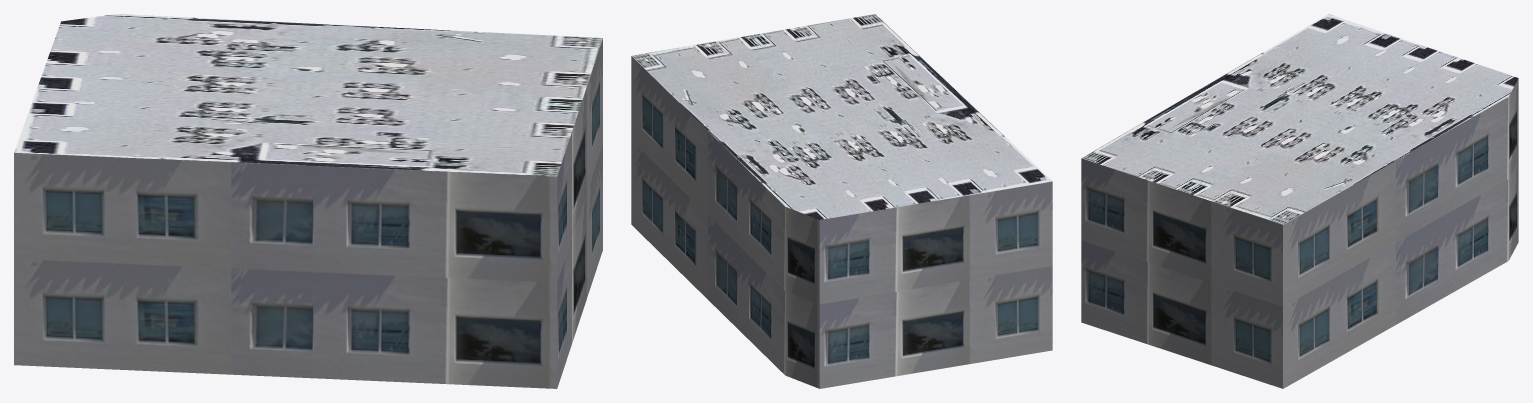
Rendered from ResTex__3816.fbx.
3 renders of one model, left to right at view 1: azimuth 30°, elevation 25°; view 2: azimuth 150°, elevation 25°; view 3: azimuth 270°, elevation 25°, orthographic. The views are drawn at different scales.
Visible parts, largest first — view 1: CityEngineMaterial_10_m, CityEngineMaterial_4_m; view 2: CityEngineMaterial_10_m, CityEngineMaterial_4_m; view 3: CityEngineMaterial_10_m, CityEngineMaterial_4_m.
Part boxes in pixels (x1,y1,x2,y2): CityEngineMaterial_10_m: (14,38,602,388); CityEngineMaterial_4_m: (14,14,602,176); CityEngineMaterial_10_m: (631,56,1052,388); CityEngineMaterial_4_m: (631,14,1052,219); CityEngineMaterial_10_m: (1081,78,1518,388); CityEngineMaterial_4_m: (1081,14,1518,224).
Bounding box in the file's own units: 16.54 × 6 × 14.49.
2 materials, 2 textured.
